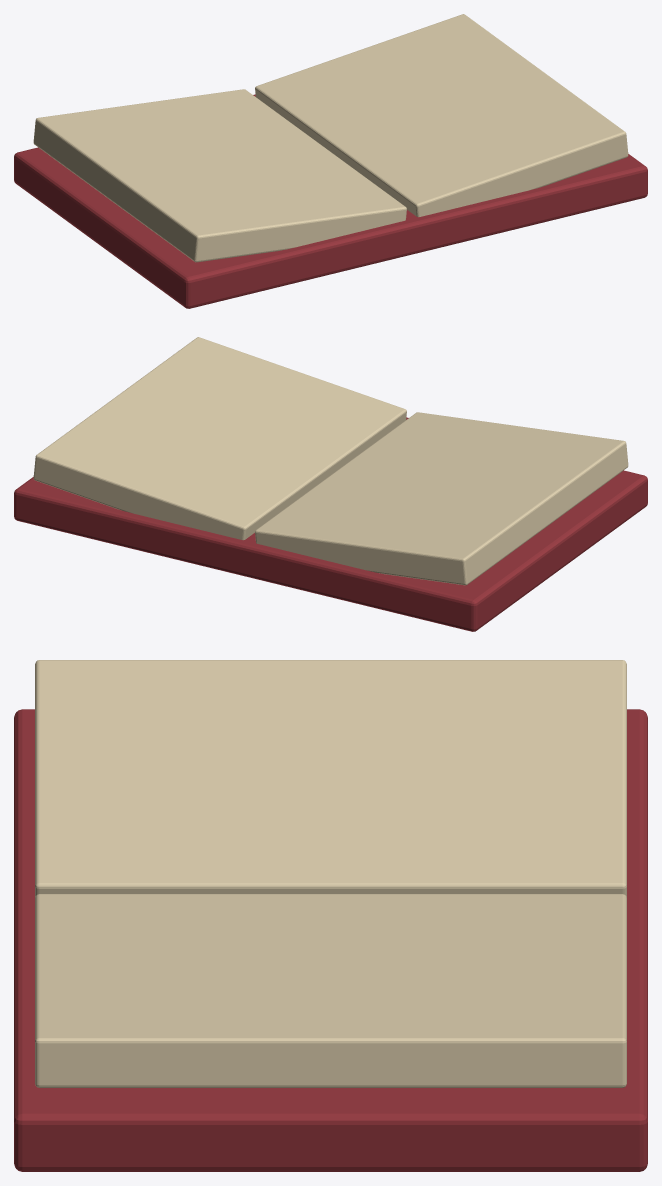
The model's file is grimoire_open_pages.glb.
3 renders of one model, top to bottom at view 1: azimuth 30°, elevation 25°; view 2: azimuth 150°, elevation 25°; view 3: azimuth 270°, elevation 25°, orthographic. The views are drawn at different scales.
Parts seen in each view (by area): view 1: GD_grimoire_open_pages__m1, GD_grimoire_open_pages__m0; view 2: GD_grimoire_open_pages__m1, GD_grimoire_open_pages__m0; view 3: GD_grimoire_open_pages__m1, GD_grimoire_open_pages__m0.
Part boxes in pixels (x1,y1,x2,y2): GD_grimoire_open_pages__m1: (33,14,628,262); GD_grimoire_open_pages__m0: (14,94,647,308); GD_grimoire_open_pages__m1: (33,337,628,585); GD_grimoire_open_pages__m0: (14,417,647,631); GD_grimoire_open_pages__m1: (35,660,626,1087); GD_grimoire_open_pages__m0: (14,709,647,1171).
Size of the model in its own units: 0.46 by 0.0627 by 0.3.
